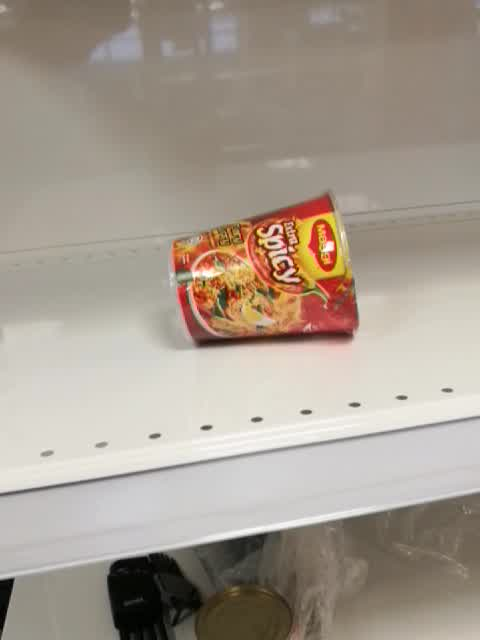maggi: (166, 189, 360, 350)
